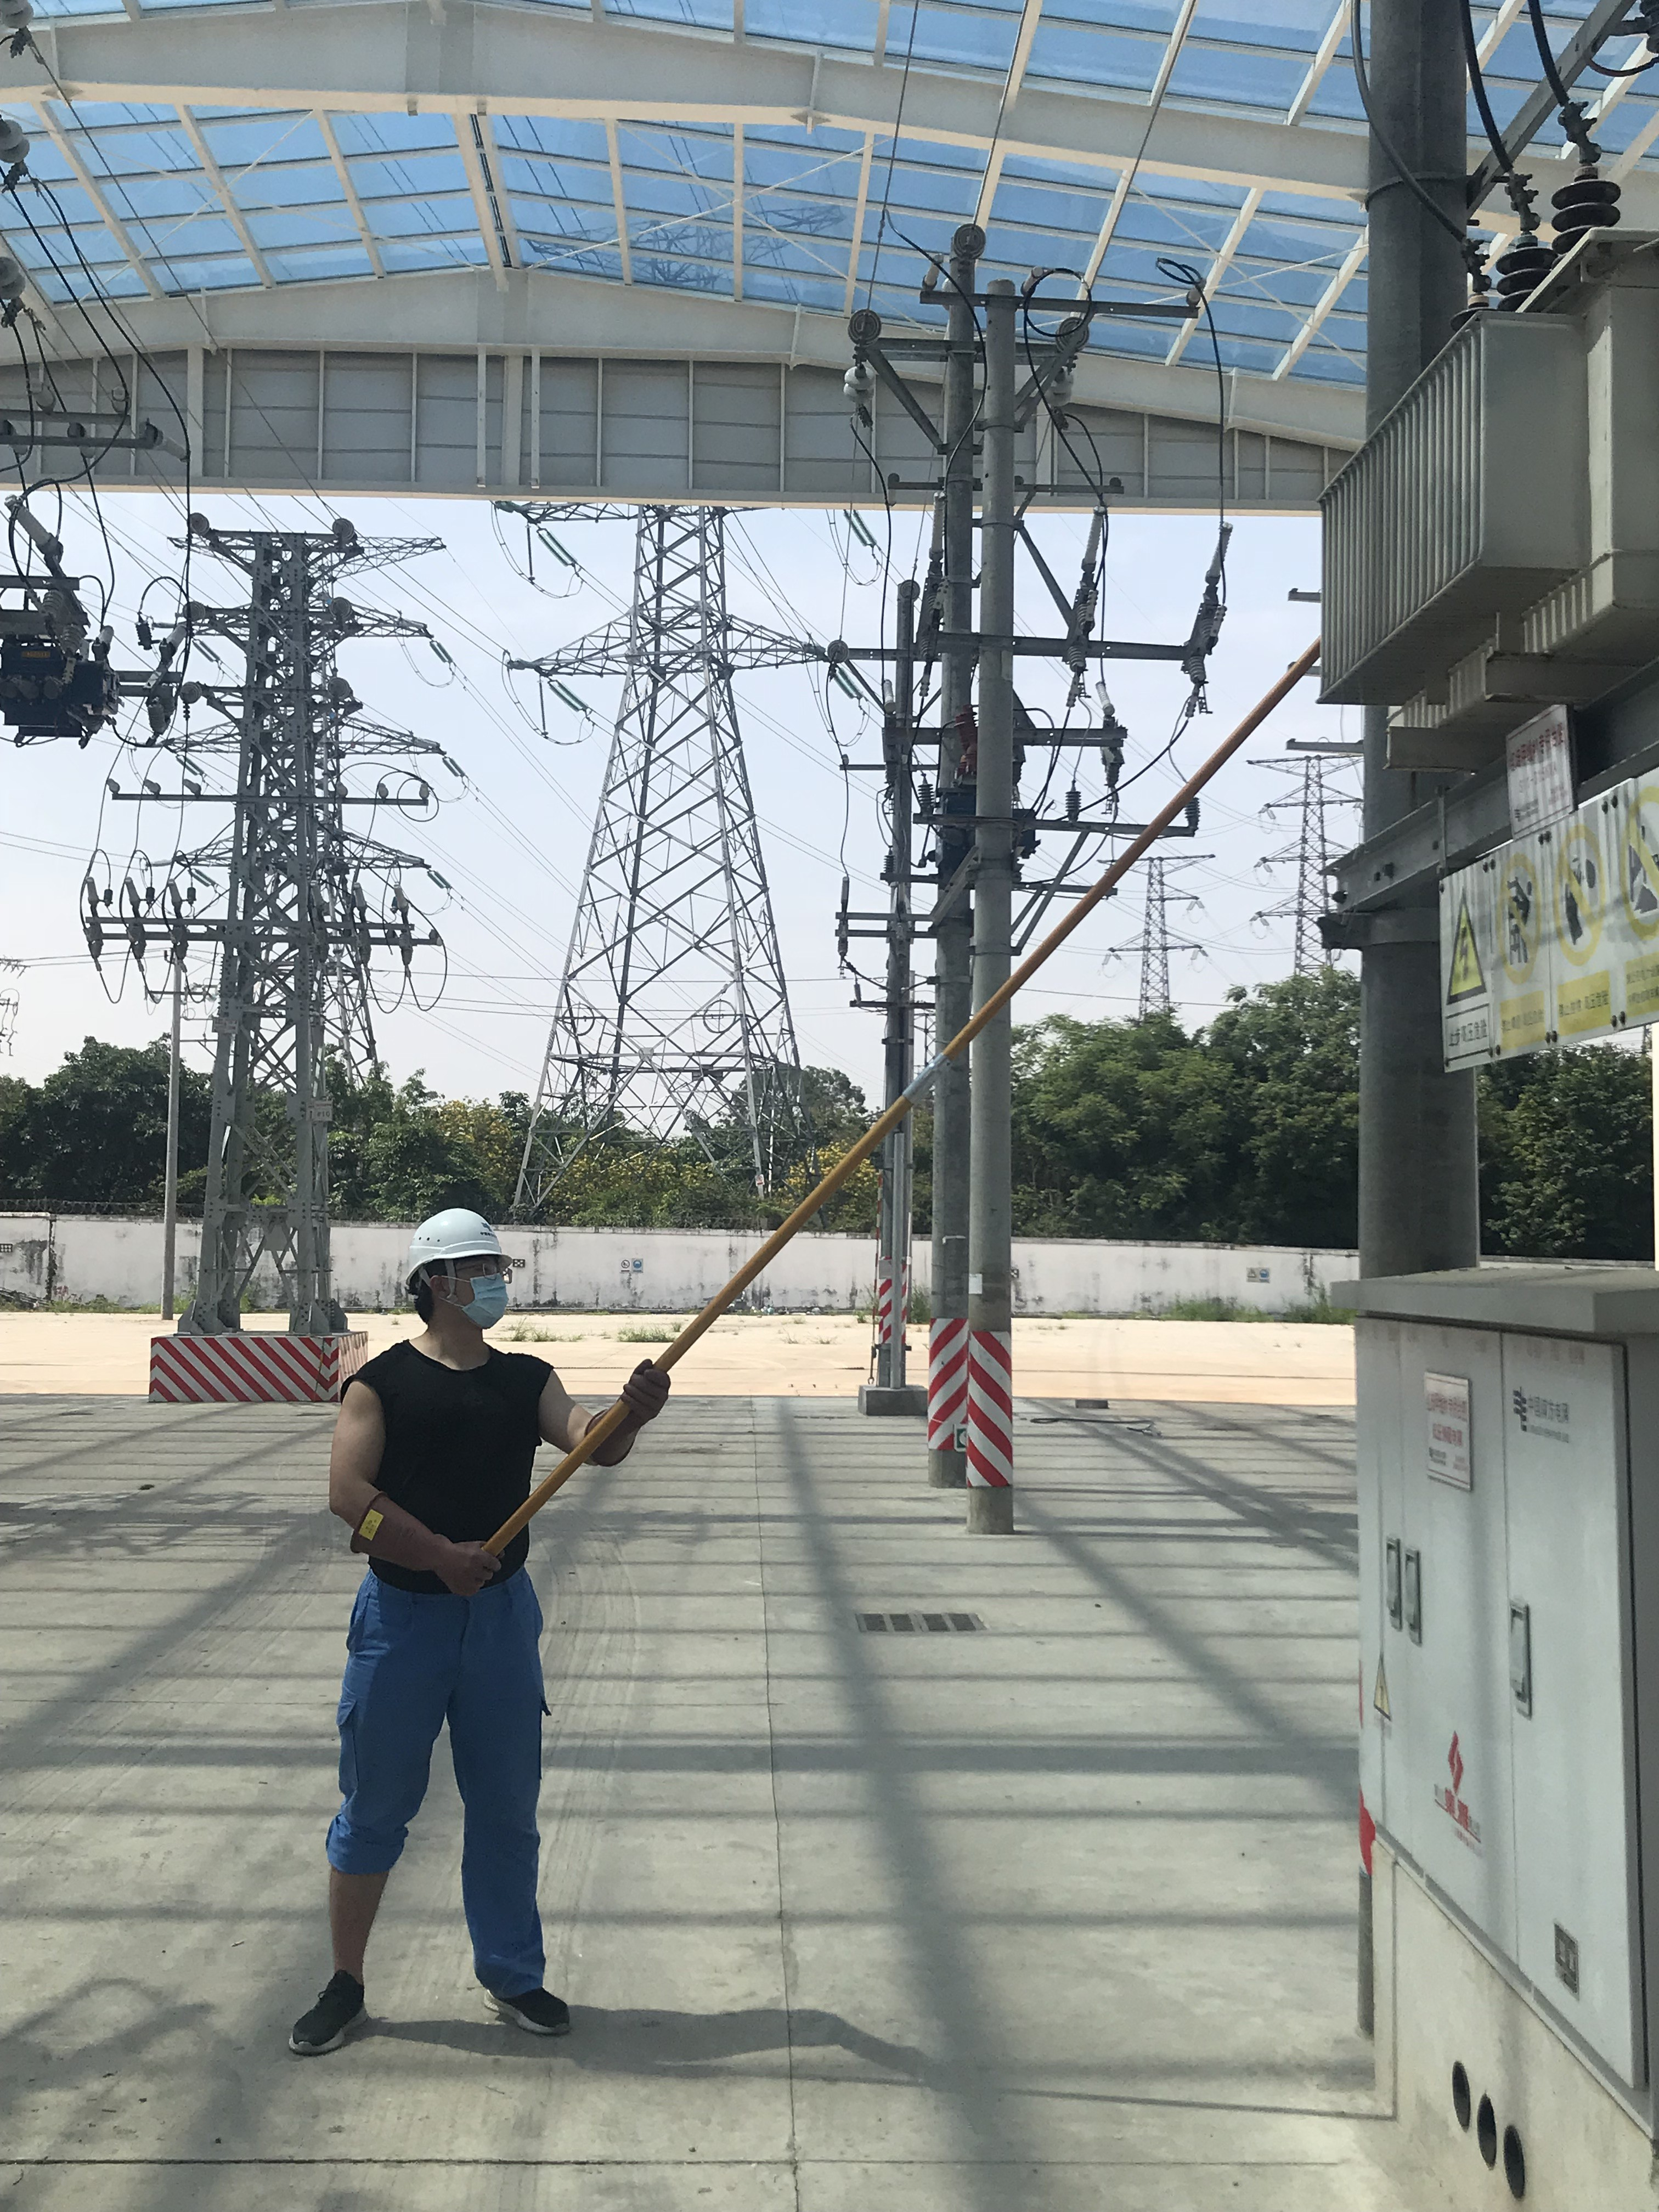downsuit: (319, 1585, 559, 1998)
upcloth: (326, 1334, 565, 1587)
wrongbottom: (324, 1818, 401, 1991)
